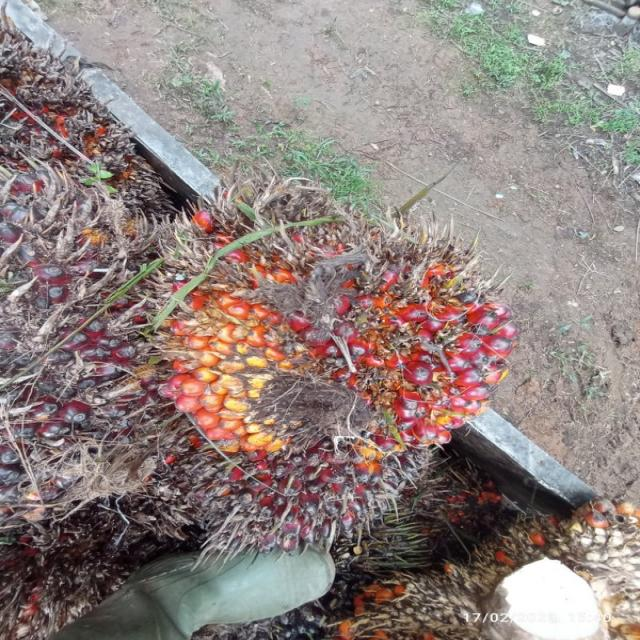fraksi 3: (101, 117, 585, 545)
